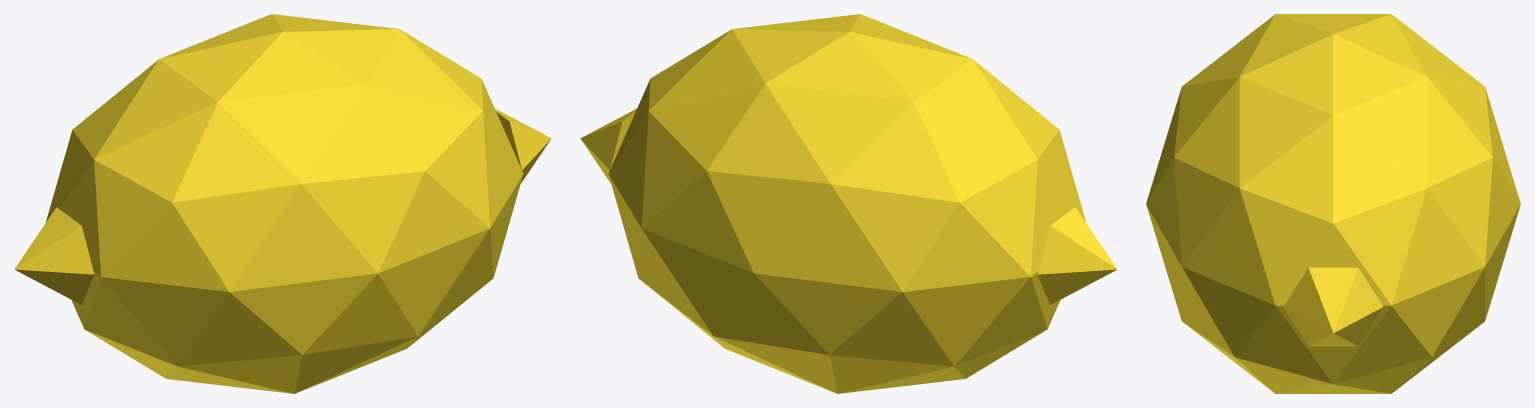
The model's file is lemon.glb.
3 views of the same model, side by side, from view 1: azimuth 30°, elevation 25°; view 2: azimuth 150°, elevation 25°; view 3: azimuth 270°, elevation 25° (orthographic).
Parts seen in each view (by area): view 1: lemon; view 2: lemon; view 3: lemon.
Boxes of the visible parts, x1,y1,x2,y2 form: lemon: [14, 14, 551, 393]; lemon: [580, 14, 1117, 393]; lemon: [1146, 14, 1520, 393].
Bounding box in the file's own units: 0.098 × 0.06 × 0.06.
